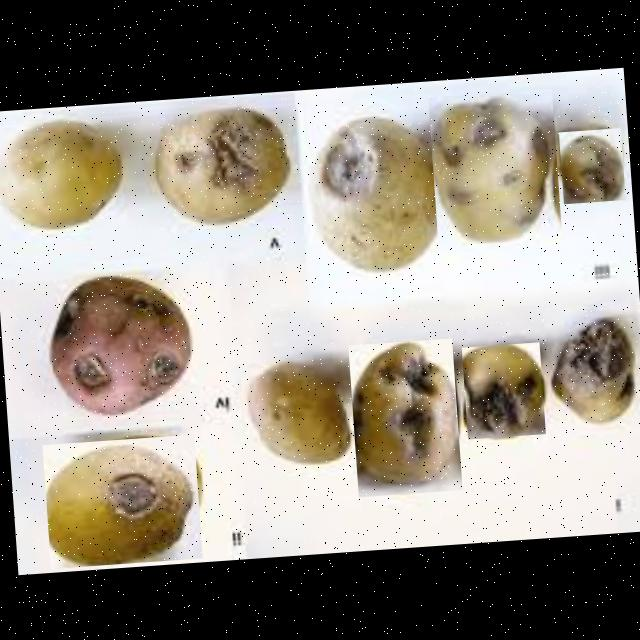Damaged potato: (302, 99, 442, 269), (42, 271, 192, 424), (426, 88, 562, 252), (41, 433, 201, 568), (347, 337, 461, 496), (150, 105, 290, 222), (547, 314, 639, 428), (460, 341, 544, 438), (558, 126, 624, 202)
